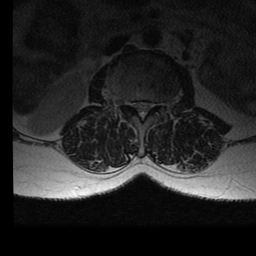CCS_normal: (139, 92, 146, 129)
LFS_severe_stenosis: (155, 93, 162, 113)
LLS_stenosis: (147, 92, 155, 119)
RFS_stenosis: (122, 90, 130, 113)
RLS_stenosis: (130, 93, 139, 115)
